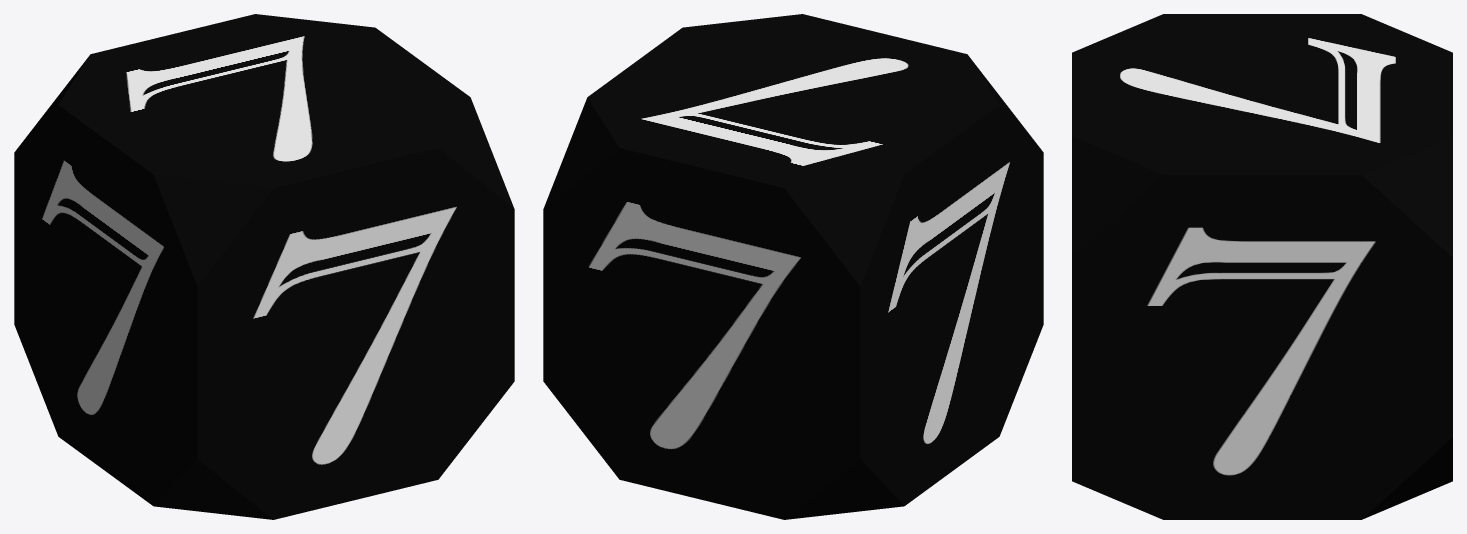
Rendered from BlockBase-7.fbx.
3 renders of one model, left to right at view 1: azimuth 30°, elevation 25°; view 2: azimuth 150°, elevation 25°; view 3: azimuth 270°, elevation 25°, orthographic. The views are drawn at different scales.
Parts seen in each view (by area): view 1: Cube.006; view 2: Cube.006; view 3: Cube.006.
Boxes of the visible parts, x1,y1,x2,y2 form: Cube.006: (14,14,514,519); Cube.006: (543,14,1043,519); Cube.006: (1072,14,1452,519).
Bounding box in the file's own units: 50 × 50 × 50.
1 material, 1 textured.
